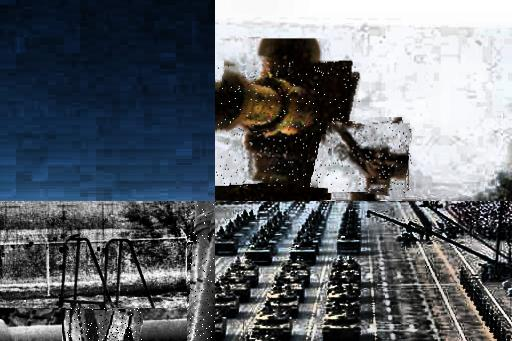tanks: (217, 63, 362, 189), (333, 123, 412, 194), (267, 261, 311, 319), (68, 309, 143, 341), (255, 303, 292, 341), (323, 311, 359, 341), (216, 309, 228, 341)
